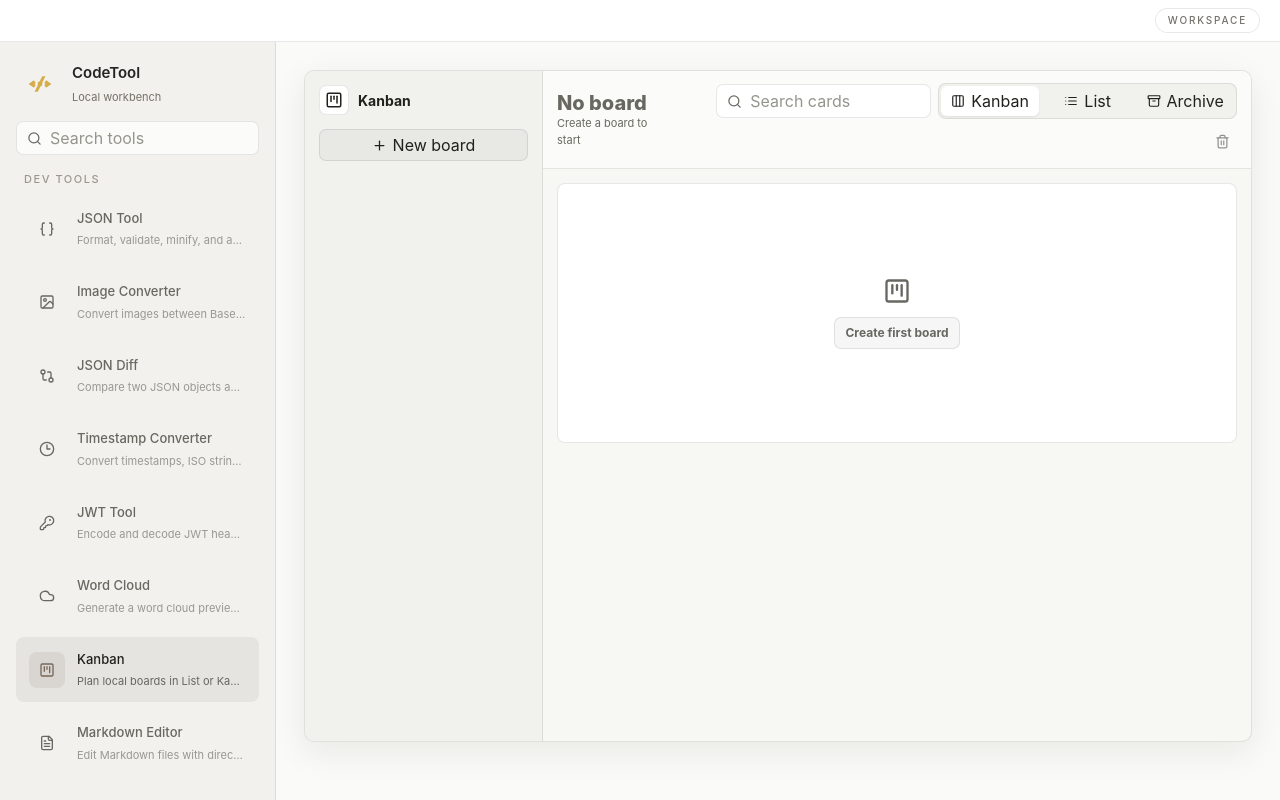
Test: App smoke › opens in-app Kanban board creation dialogs
Expected: the button "Create first board" is shown, [834,317,960,349]
Click the button "New board" at (424, 145), box [319,129,528,161]
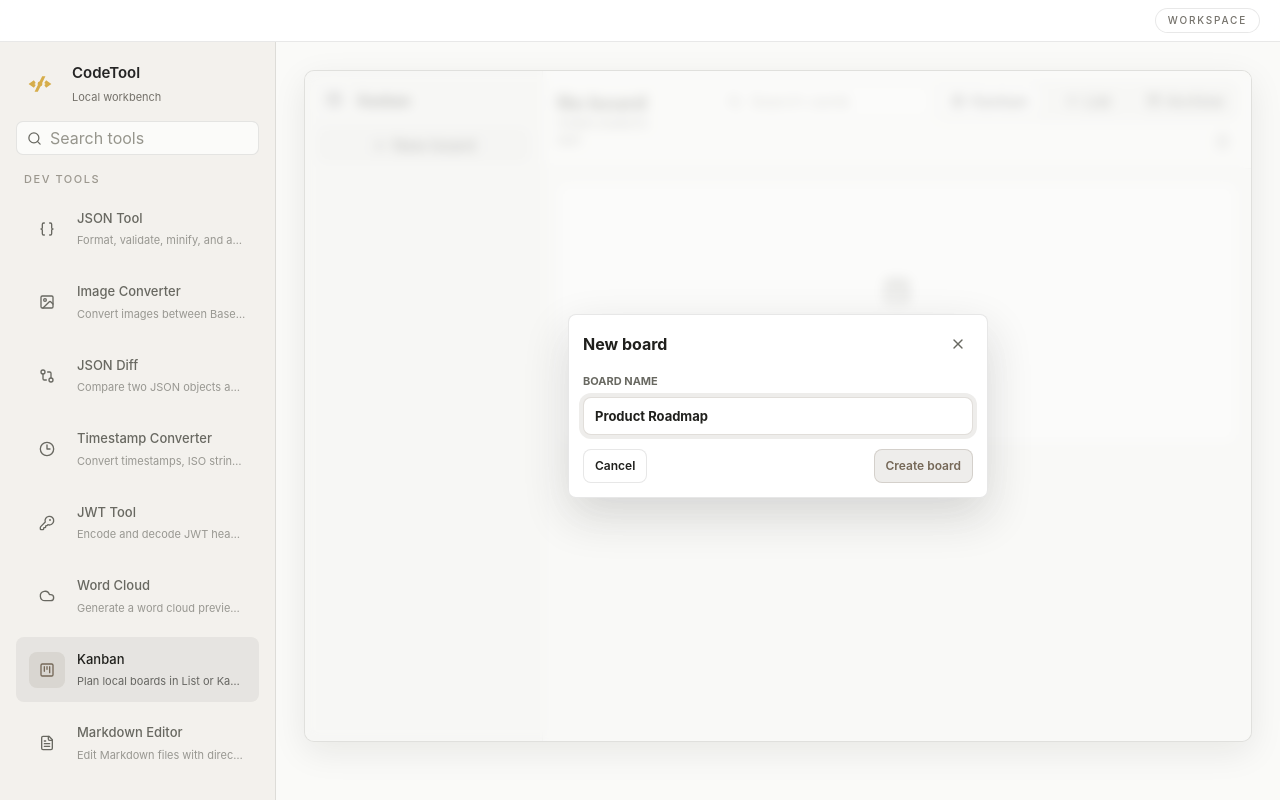
Expected: the dialog "New board" is shown, [568,314,988,498]
Click the button named "Close dialog" at (958, 344), box [943,329,973,359]
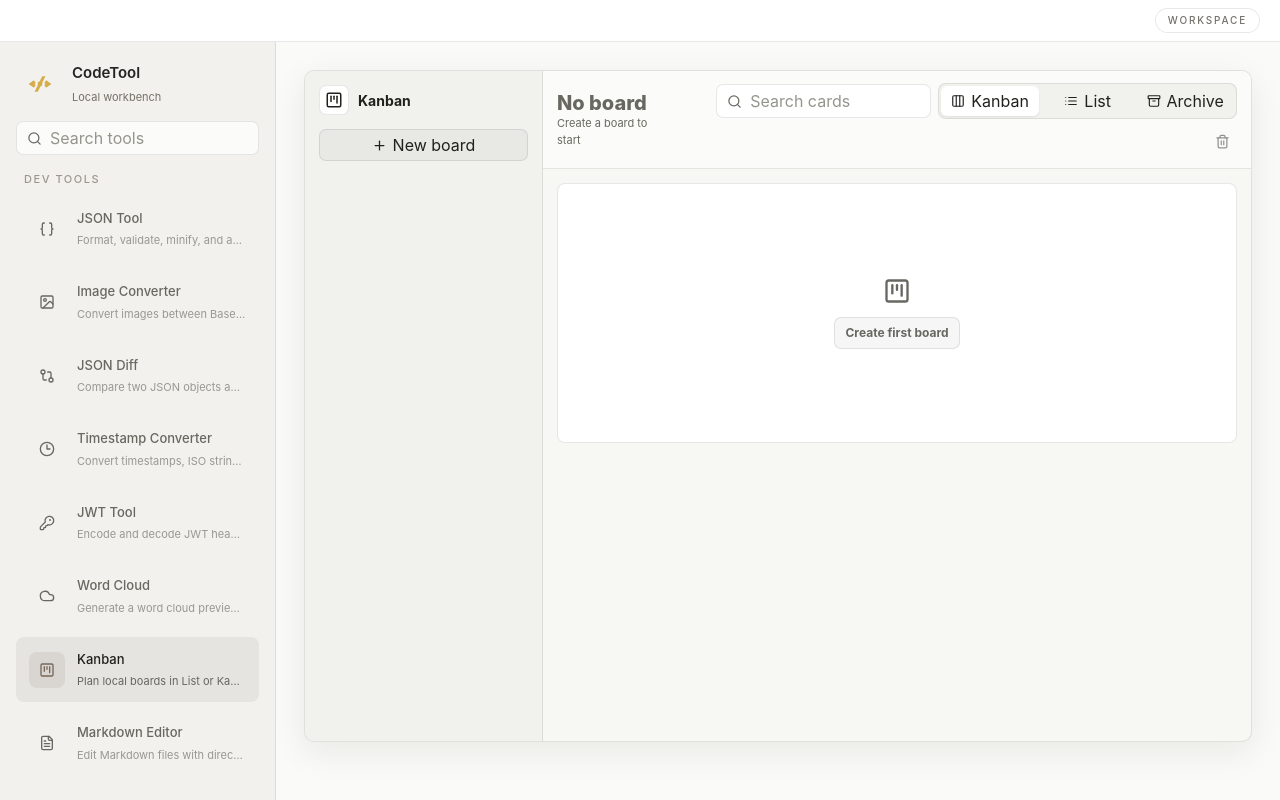
Click the button "Create first board" at (897, 333), box [834,317,960,349]
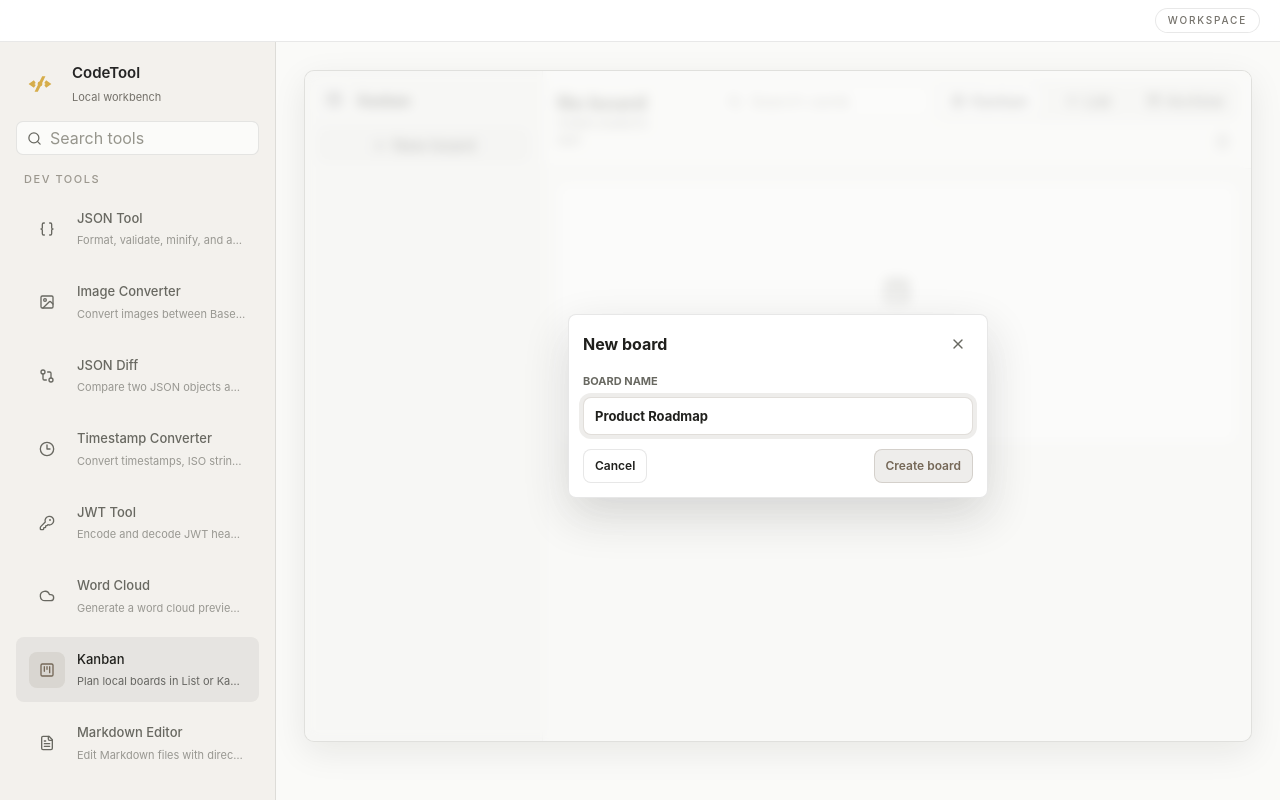
Expected: the dialog "New board" is shown, [568,314,988,498]
